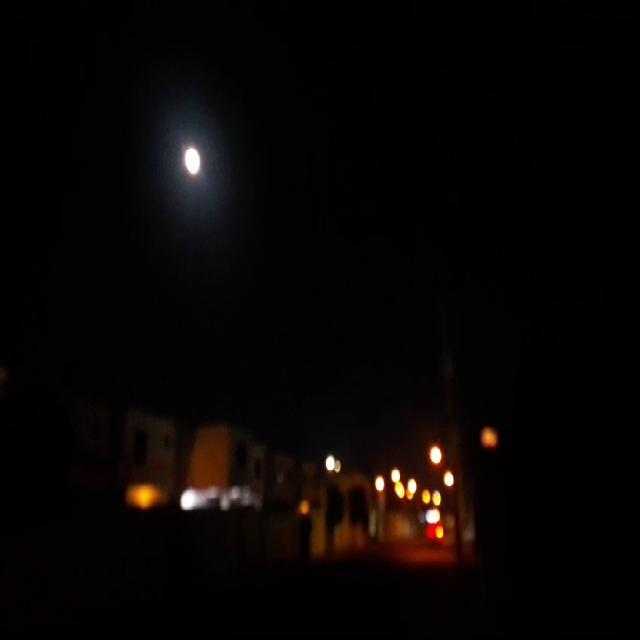moon: (186, 138, 206, 172)
